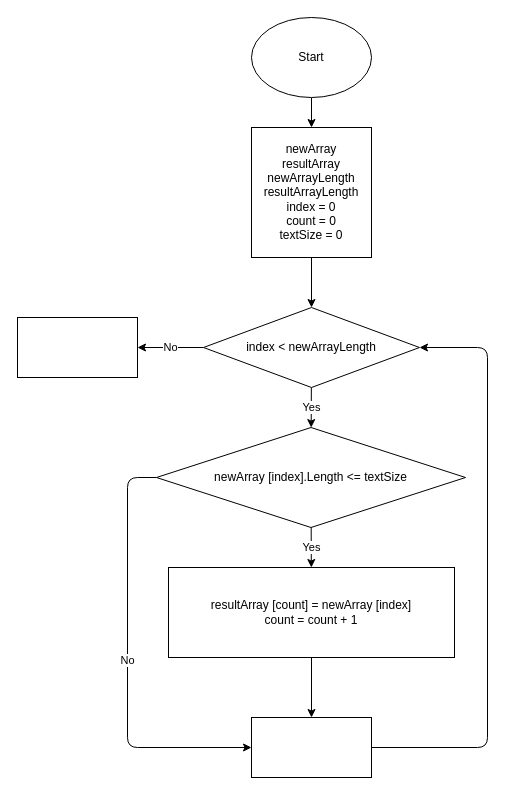
This 513x795 diagram has some shape labels left out. Each missing label, with the box of its shape:
index = index + 1: (250, 716, 372, 778)
resultArray [ ]: (16, 316, 138, 378)
